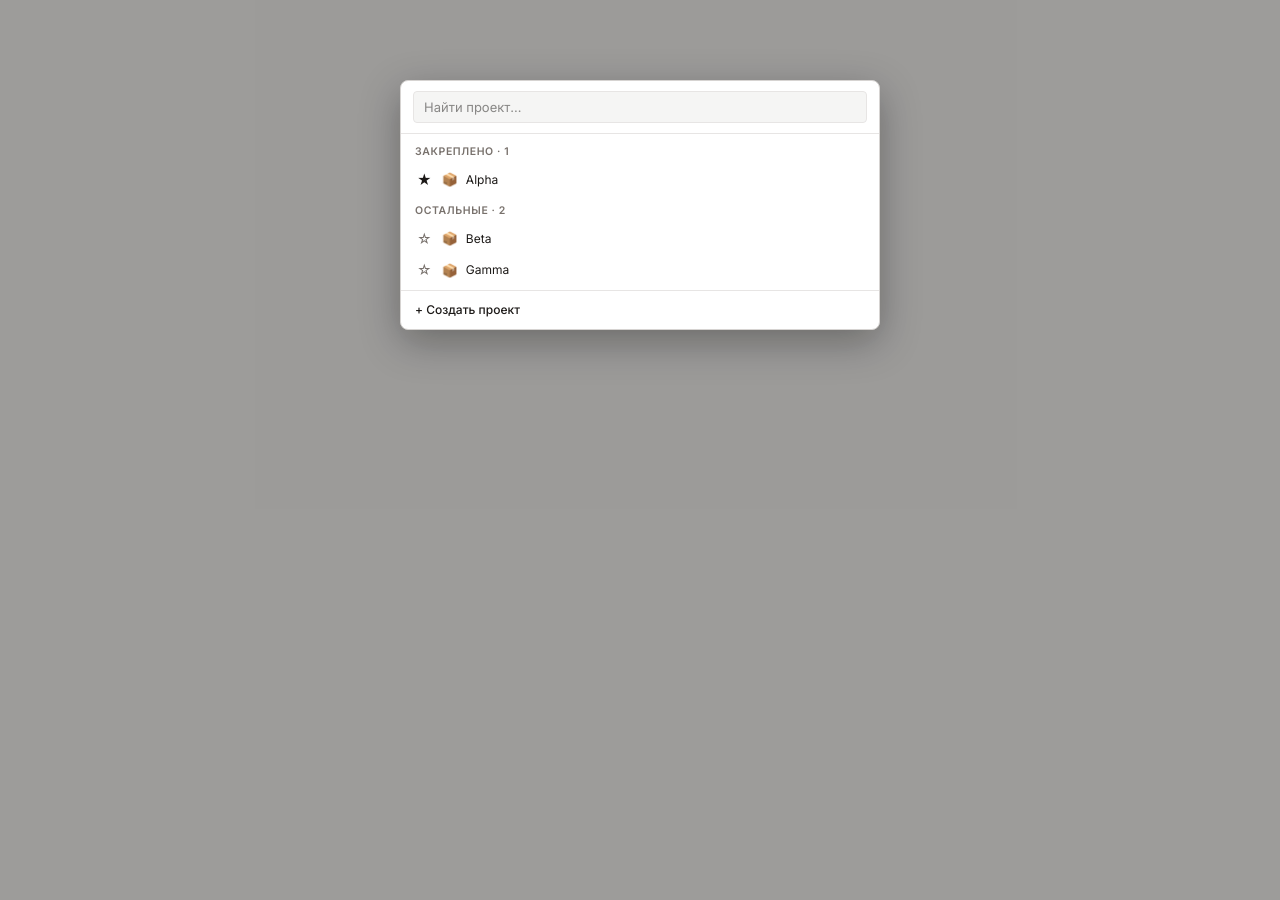
Test case: M-X.8 K6 — CommandPalette › renders PINNED group on top, OTHERS below; filter narrows by substring
The width and height of the screenshot is (1280, 900).
Expected: the text with test id "command-palette-group-pinned" reads "ЗАКРЕПЛЕНО · 1", [415,145,509,158]
Expected: the text with test id "command-palette-group-others" reads "ОСТАЛЬНЫЕ · 2", [415,204,506,217]
Type "gam" into the field with test id "command-palette-input" at (640,107), box [413,91,867,123]
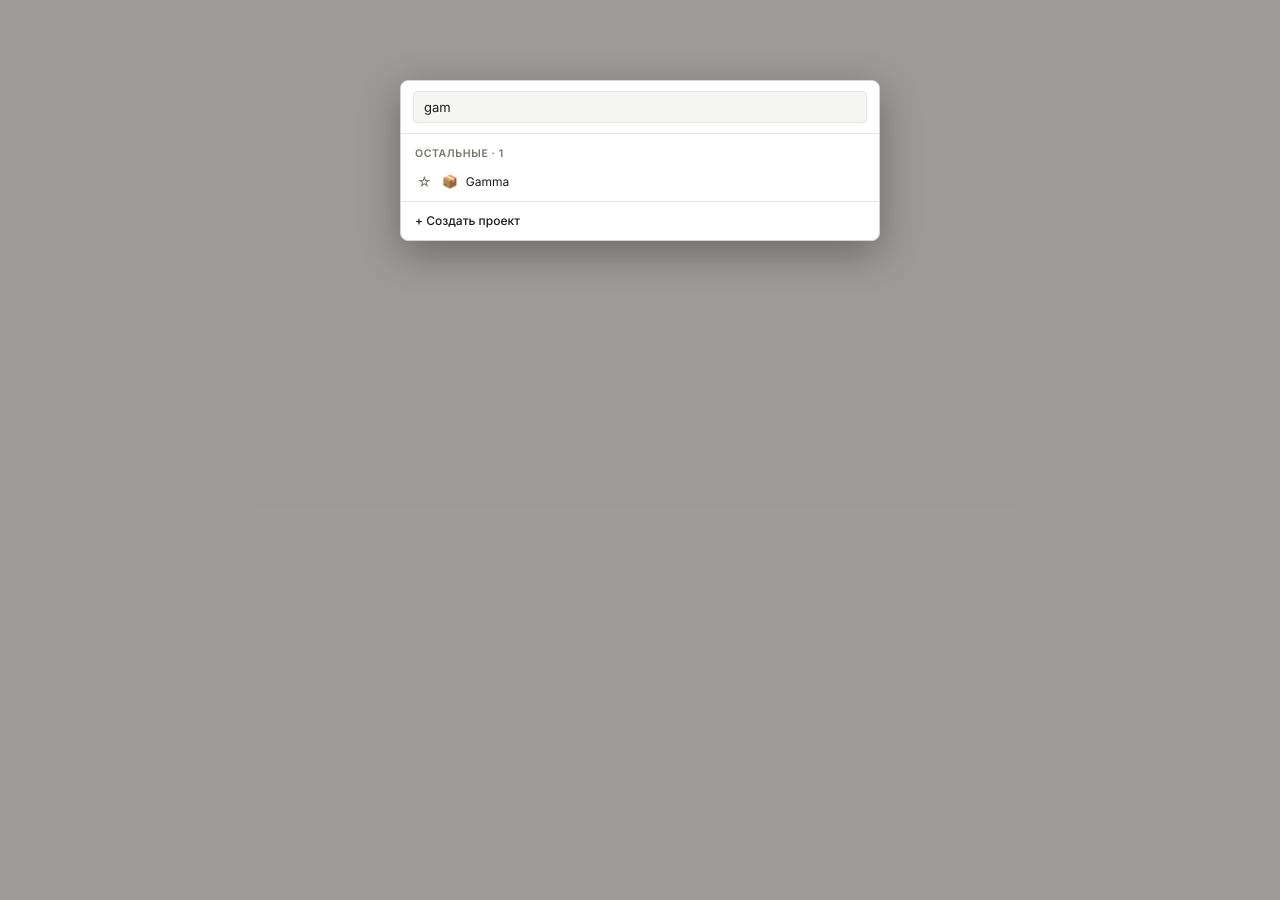
Expected: the button with test id "palette-row-id-Gamma" is shown, [415,172,509,190]
Expected: the button with test id "palette-row-id-Alpha" is gone
Expected: the button with test id "palette-row-id-Beta" is gone
